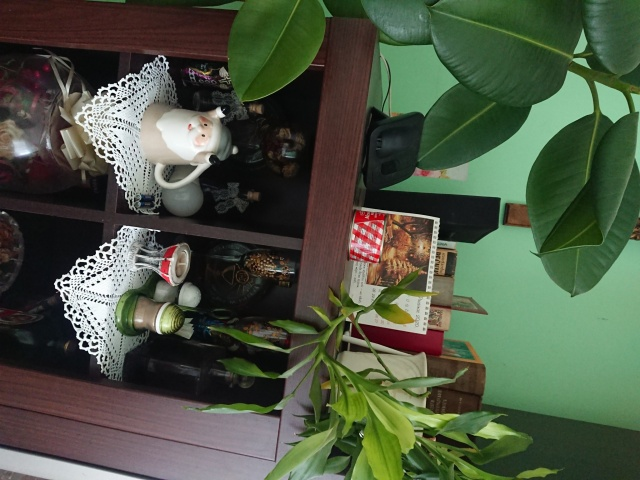Podravka Luncheon Meat 150g: (345, 208, 389, 266)
